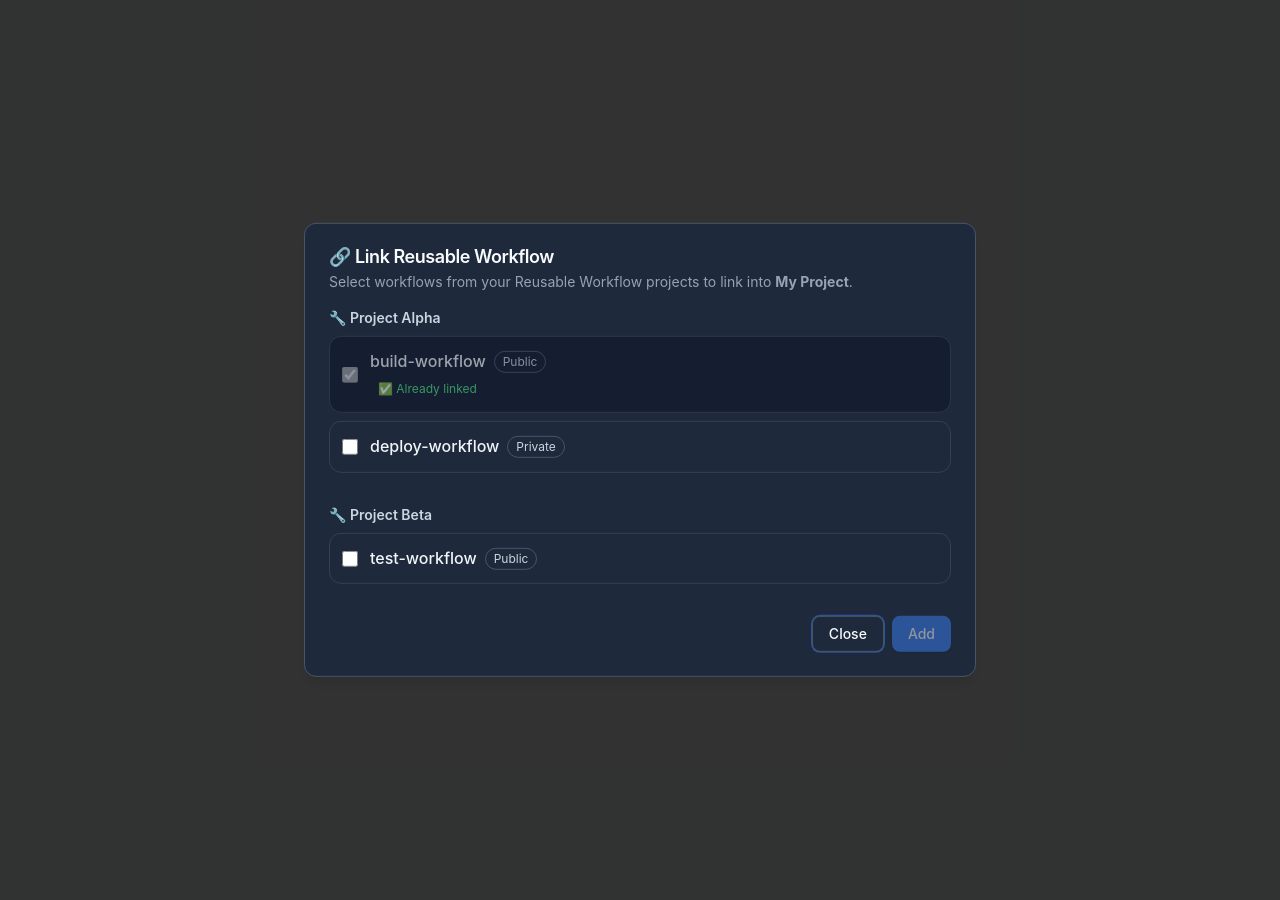
Test: LinkedWorkflowsModal › already-linked workflows are not counted in Add button
Expected: the text "build-workflow" is shown, top-left (370, 349), bottom-right (486, 374)
// deploy-workflow is not linked — select it
Click the checkbox labelled "deploy-workflow Private". click: (350, 447)
box: top-left (342, 439), bottom-right (358, 455)
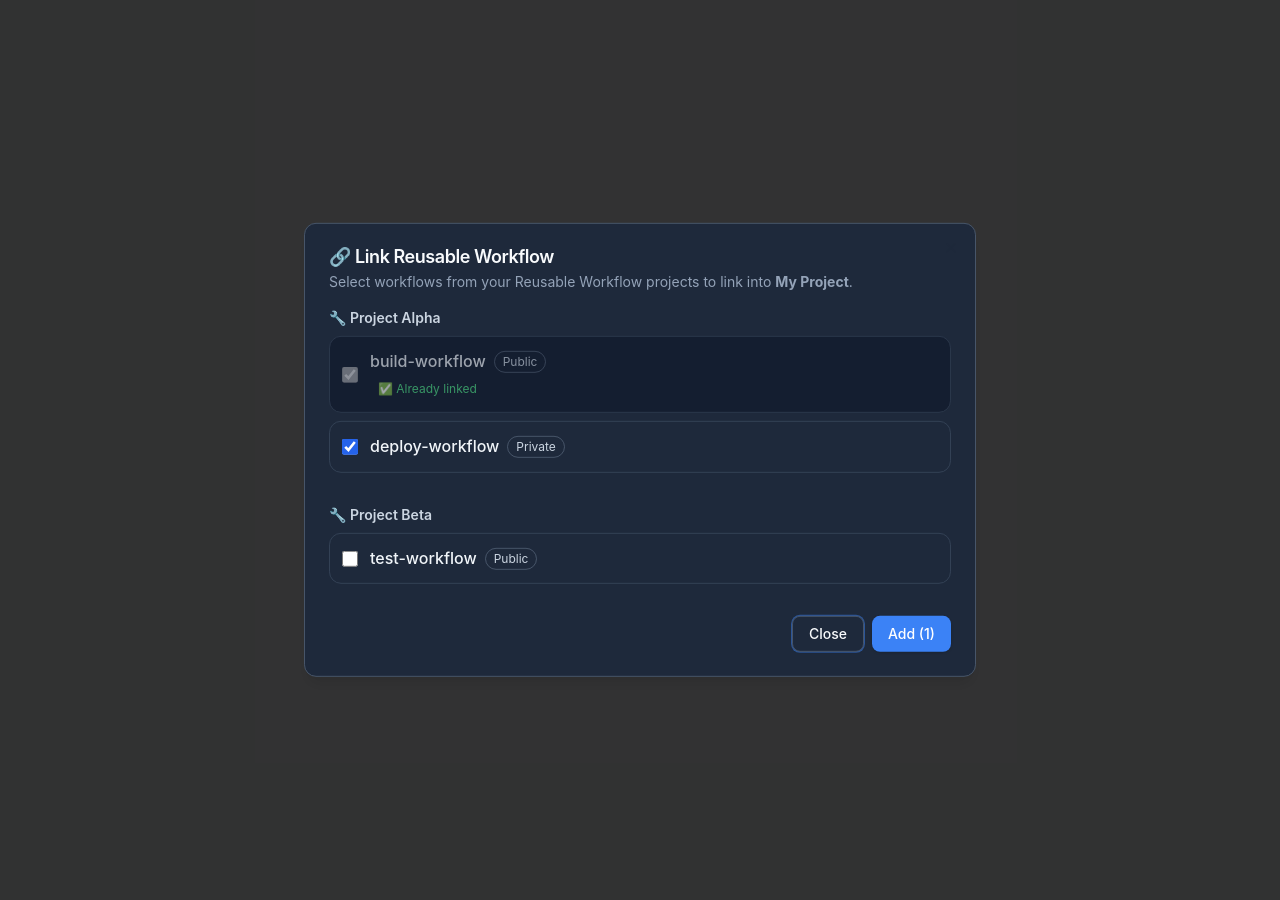
Expected: the button "Add (1)" is enabled, top-left (872, 616), bottom-right (951, 652)
